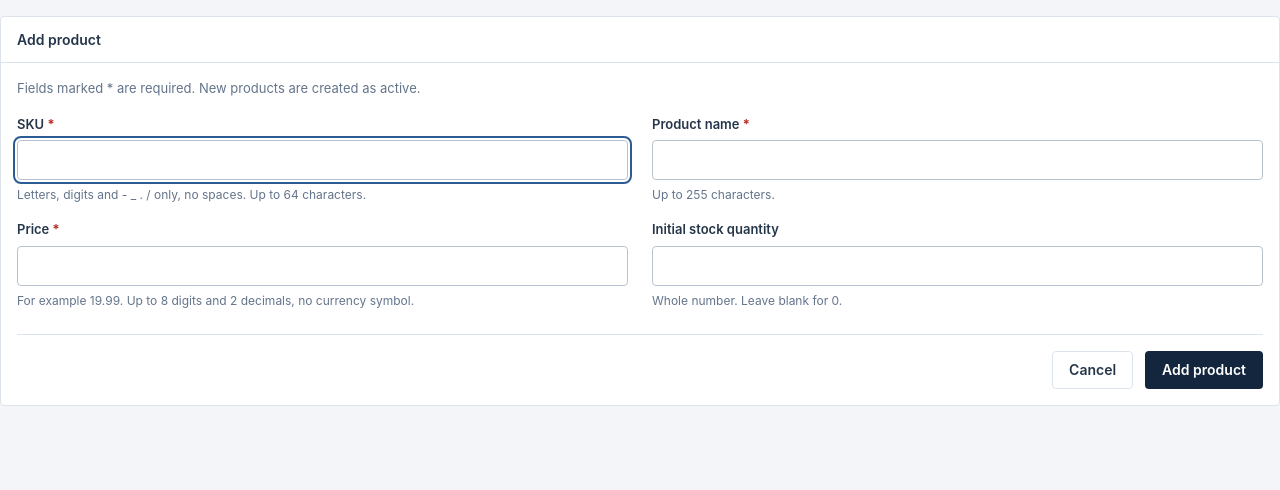
Test case: validation before sending › required fields show errors, focus moves to the first one, and nothing is sent
Click the button "Add product" at x=1204, y=370, box [1145,350,1263,388]
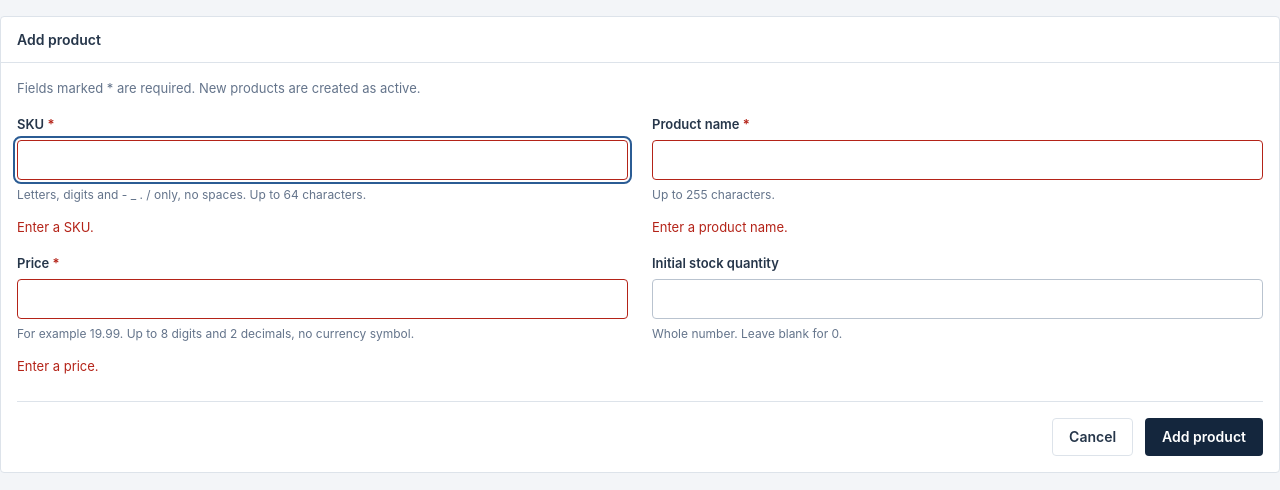
Expected: the text "Enter a SKU." is shown, [17,219,94,235]
Expected: the text "Enter a product name." is shown, [652,219,788,235]
Expected: the text "Enter a price." is shown, [17,358,99,374]
